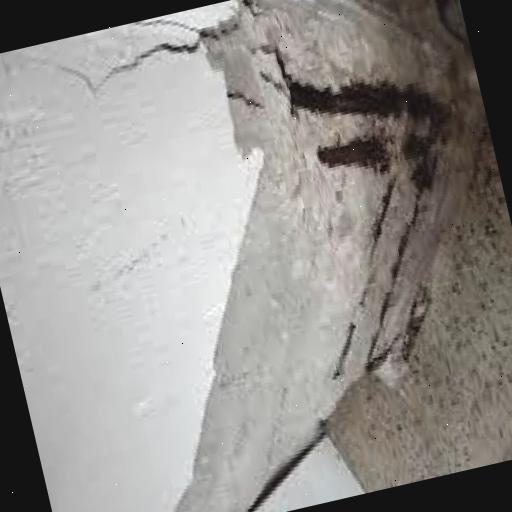spalling: (176, 0, 474, 512), (58, 38, 195, 93)
